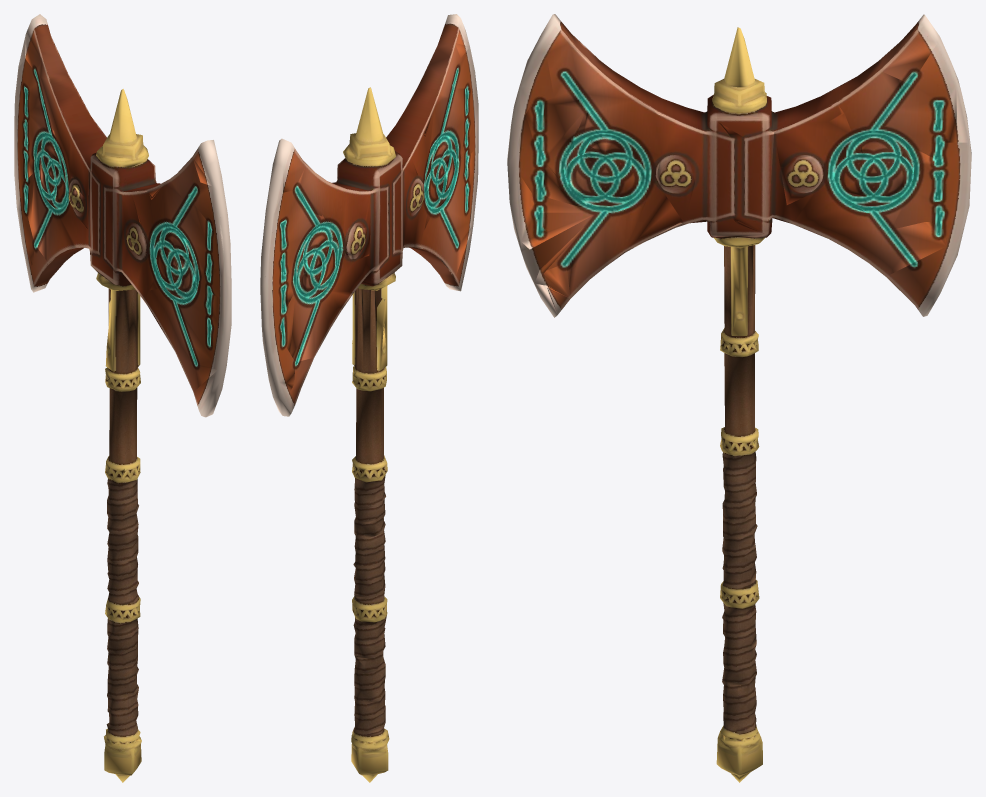
Rendered from weapon_copperax.glb.
The picture shows the model from 3 angles, left to right: view 1: azimuth 30°, elevation 25°; view 2: azimuth 150°, elevation 25°; view 3: azimuth 270°, elevation 25°; orthographic projection. The views are drawn at different scales.
Parts seen in each view (by area): view 1: weapon_copperax; view 2: weapon_copperax; view 3: weapon_copperax.
Part boxes in pixels (left/top/right/bottom): weapon_copperax: left=14, top=14, right=231, bottom=782; weapon_copperax: left=260, top=14, right=478, bottom=782; weapon_copperax: left=507, top=14, right=971, bottom=782.
Bounding box in the file's own units: 0.0915 × 1.32 × 0.7212.
1 material, 1 textured.
